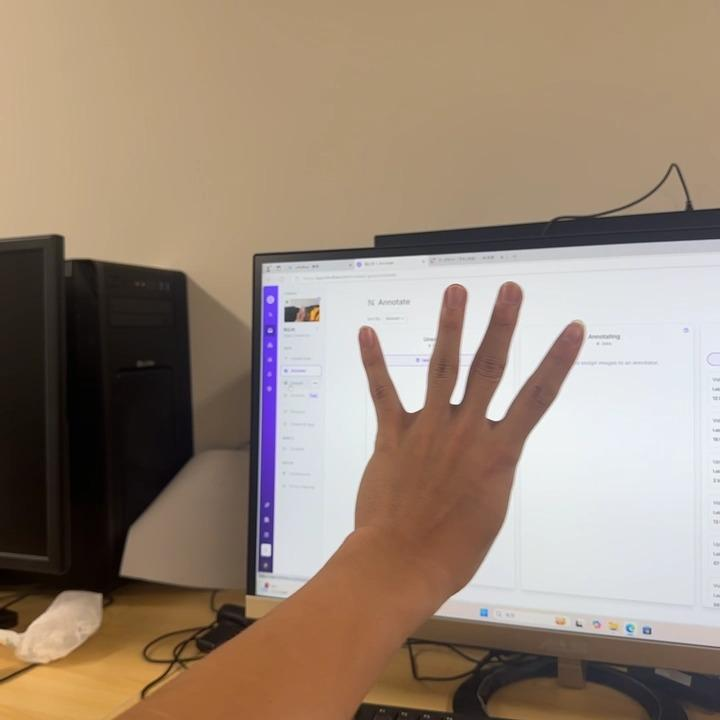without_gloves: (273, 240, 630, 635)
